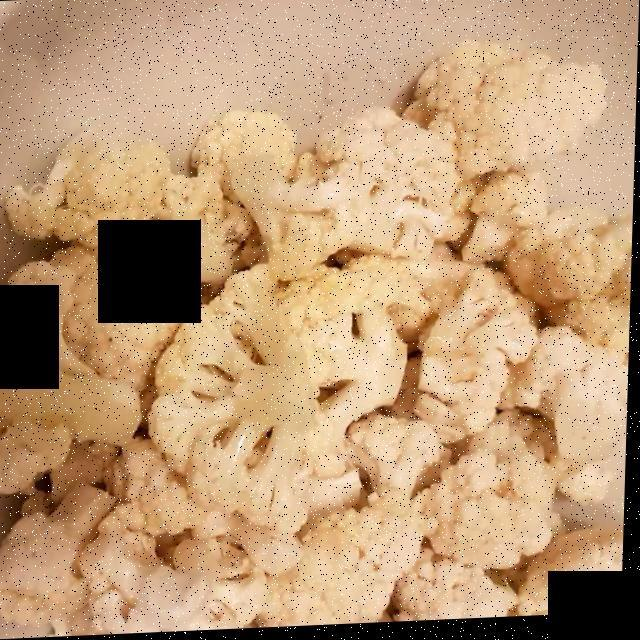cauliflower: (25, 69, 611, 630)
